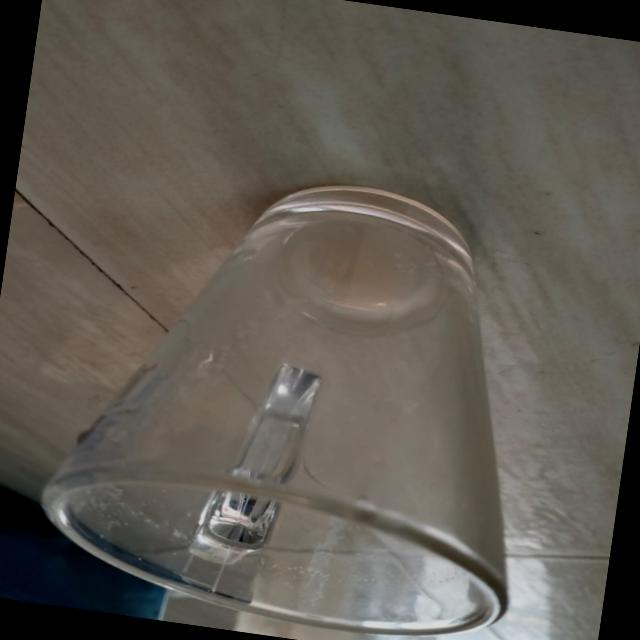glass-VX4N: (25, 150, 569, 640)
